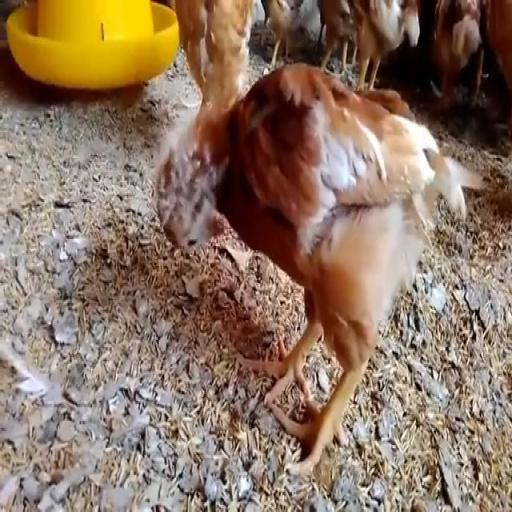disease: (169, 191, 221, 259)
